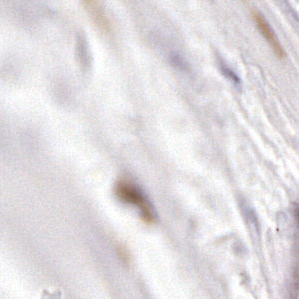Lymphocyte: (114, 177, 157, 225)
